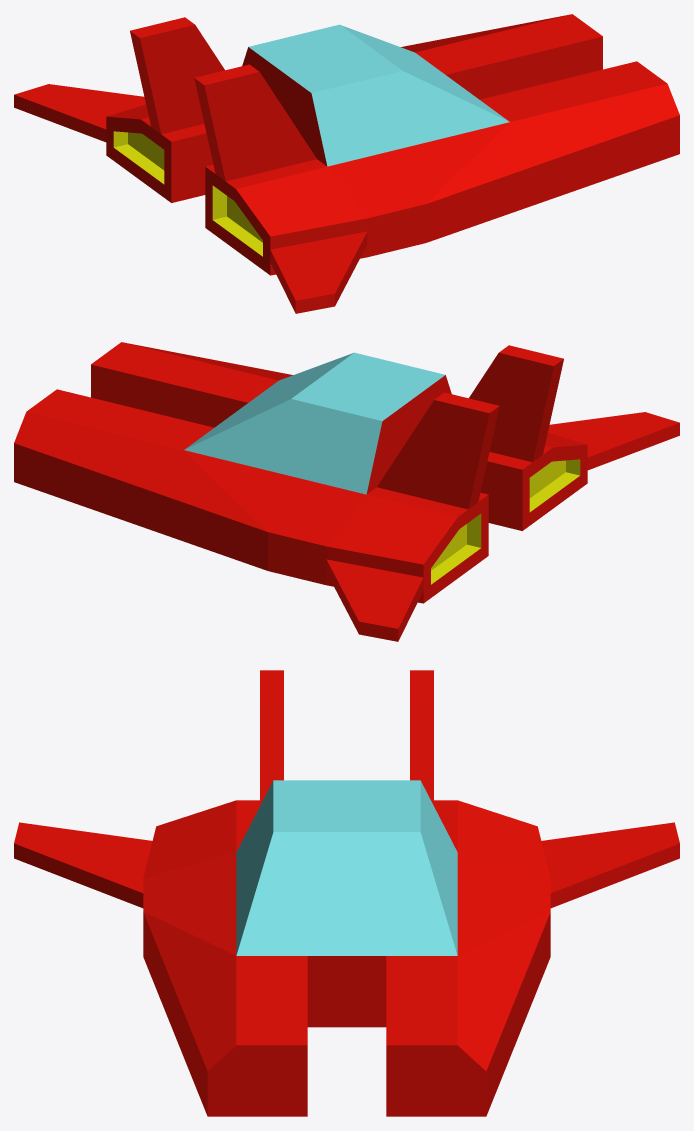
The model's file is spaceship_3materialSlots.fbx.
The picture shows the model from 3 angles, top to bottom: view 1: azimuth 30°, elevation 25°; view 2: azimuth 150°, elevation 25°; view 3: azimuth 270°, elevation 25°; orthographic projection. The views are drawn at different scales.
Parts seen in each view (by area): view 1: Cube.004; view 2: Cube.004; view 3: Cube.004.
Boxes of the visible parts, bbox=[...] form: Cube.004: bbox=[14, 14, 679, 313]; Cube.004: bbox=[14, 342, 679, 641]; Cube.004: bbox=[14, 670, 679, 1116].
Size of the model in its own units: 1586 by 530 by 1691.
